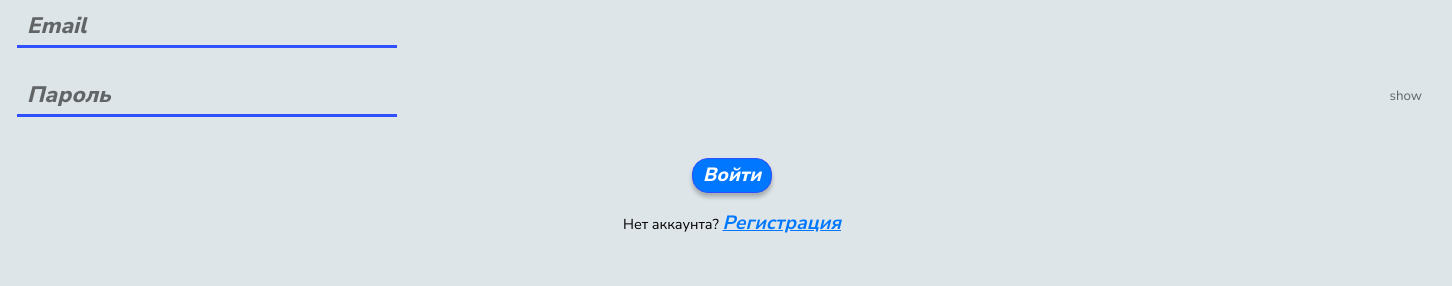
Test: LoginForm › should show a credentials error message when the mutation rejects with a 400 HttpError
Step 1. Type "user@example.com" into the field with placeholder "Email" → (207, 26), box 17,5 -> 397,48
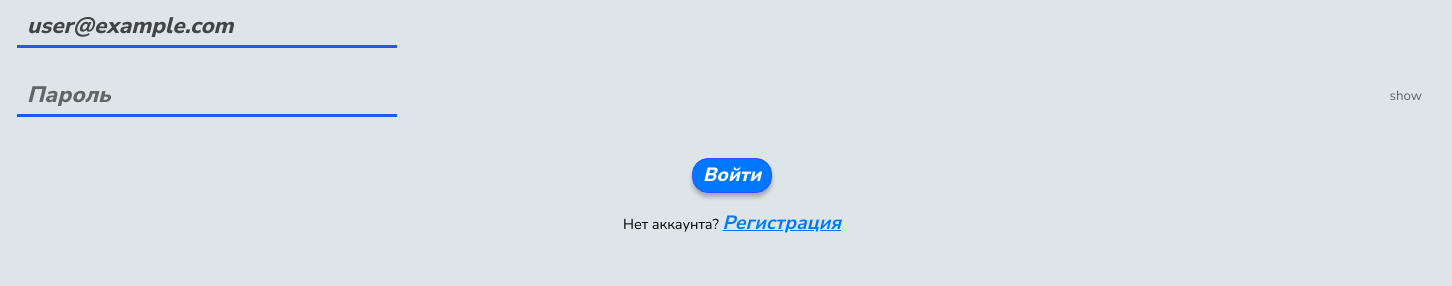
Step 2. Type "secret1" into the password field with placeholder "Пароль" → (207, 96), box 17,74 -> 397,117
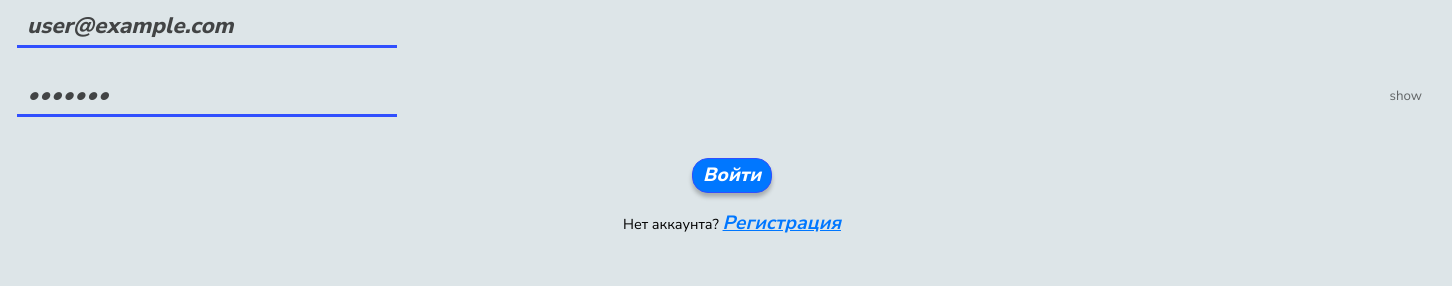
Step 3. Click the button "Войти" → (732, 175), box 692,158 -> 772,193
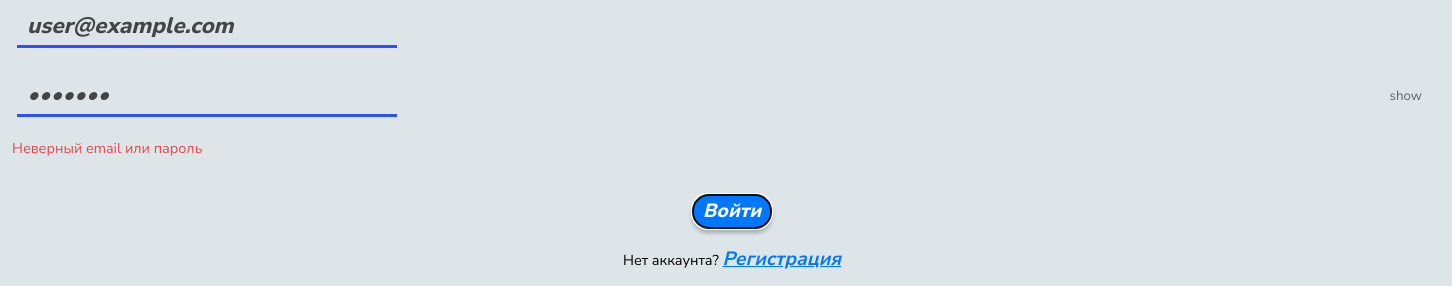
Now the text "Неверный email или пароль" is shown, box 12,138 -> 1451,158
